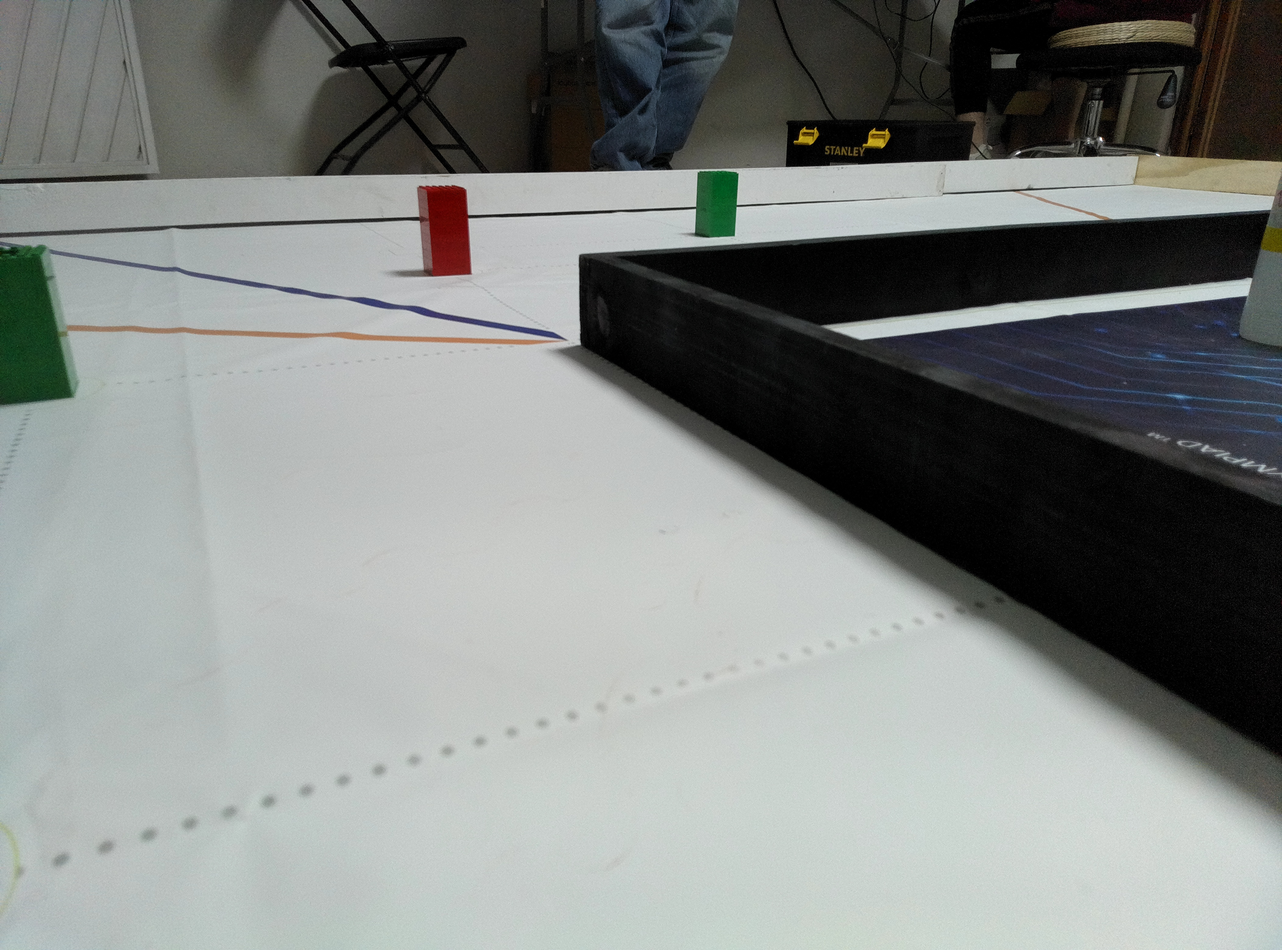greenbox: (2, 245, 81, 409), (692, 169, 740, 238)
redbox: (416, 184, 473, 279)
